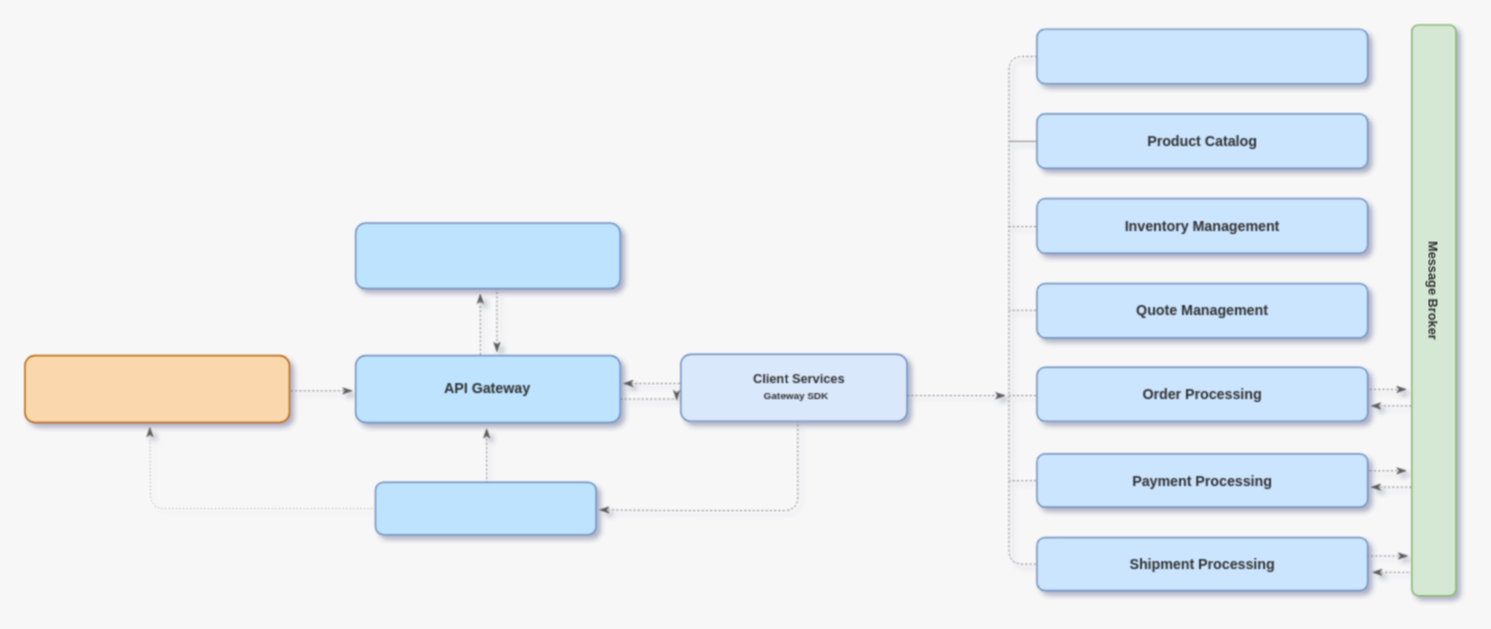
Some shapes in this 1491 by 629 pixel diagram are drawn without their labels. Here are the shapes that lost their labels. From the top down, the centre of each, then its label:
At (x=1201, y=56): "Customer Management".
At (x=487, y=255): "Identity Server".
At (x=156, y=388): "S ingle P age A pplication".
At (x=485, y=508): "SignalR".
